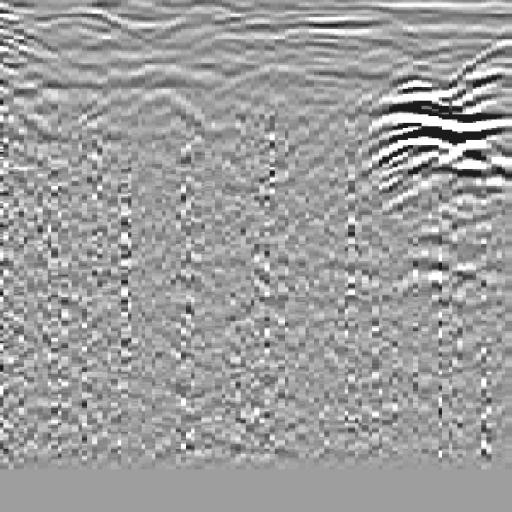metalic: (351, 52, 512, 223)
